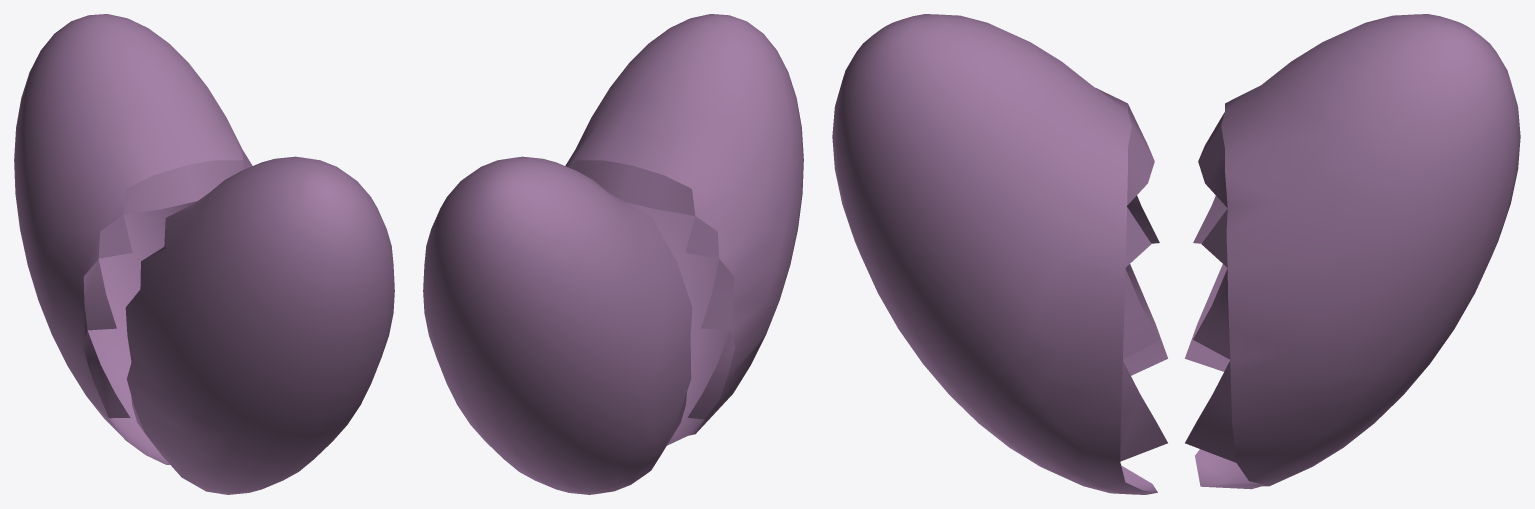
Rendered from Broken_Heart.fbx.
3 renders of one model, left to right at view 1: azimuth 30°, elevation 25°; view 2: azimuth 150°, elevation 25°; view 3: azimuth 270°, elevation 25°, orthographic. The views are drawn at different scales.
Visible parts, largest first — view 1: pSphere6; view 2: pSphere6; view 3: pSphere6.
Part boxes in pixels (x1,y1,x2,y2): pSphere6: (14, 14, 394, 494); pSphere6: (423, 14, 803, 494); pSphere6: (832, 14, 1520, 494).
Bounding box in the file's own units: 1.43 × 2.47 × 3.31.
